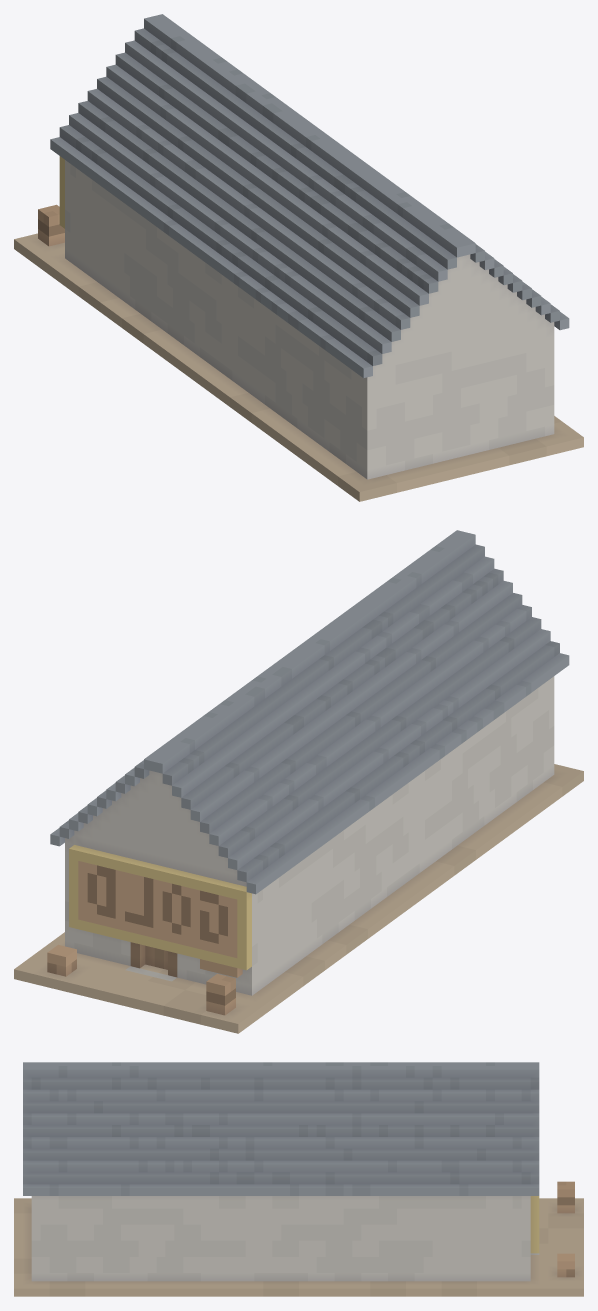
File: gold_mine.glb
The picture shows the model from 3 angles, top to bottom: view 1: azimuth 30°, elevation 25°; view 2: azimuth 150°, elevation 25°; view 3: azimuth 270°, elevation 25°; orthographic projection. The views are drawn at different scales.
Parts seen in each view (by area): view 1: gold_mine; view 2: gold_mine; view 3: gold_mine.
Part boxes in pixels (box(x1,y1,x2,y2)): gold_mine: box(14, 14, 583, 501); gold_mine: box(14, 530, 583, 1033); gold_mine: box(14, 1062, 583, 1296).
Bounding box in the file's own units: 3 × 2.88 × 8.
